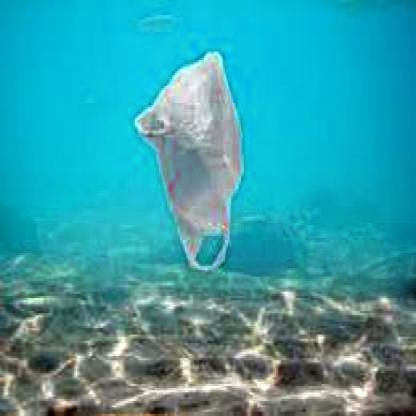pbag: (132, 50, 244, 270)
